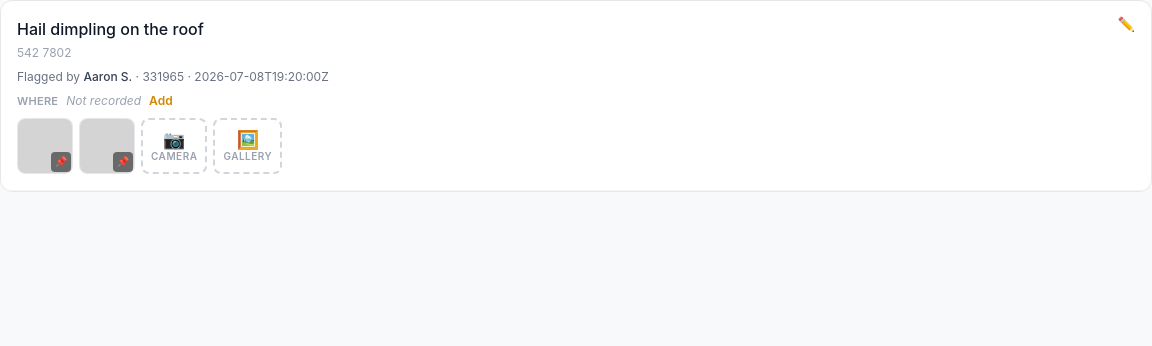
HoldRecordCard — destructive edits › cancel disarms without firing anything
The image size is (1152, 346).
Click the button named "Edit this hold" at {"x": 1126, "y": 24}, box [1118,17,1135,31]
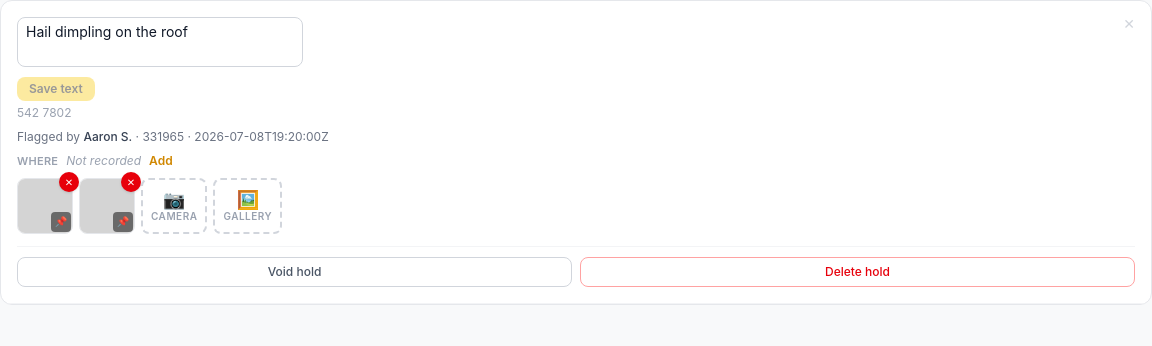
Click the button "Delete hold" at {"x": 858, "y": 272}, box [580,256,1135,286]
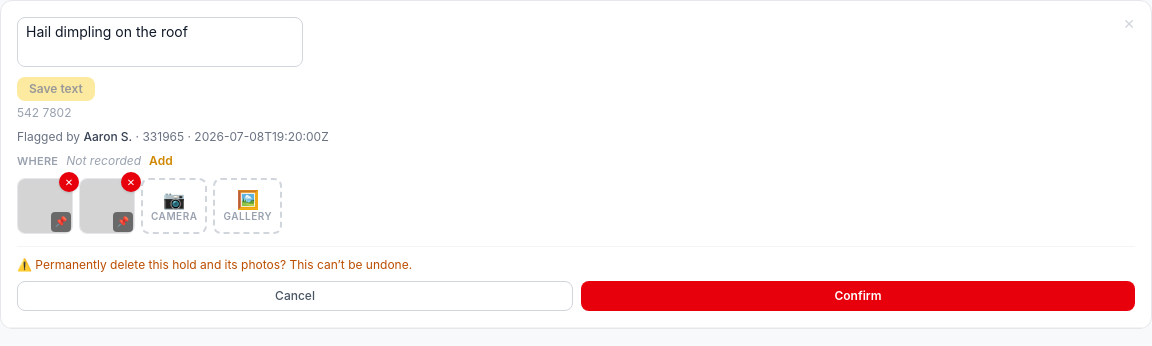
Click the button "Cancel" at {"x": 295, "y": 296}, box [17,280,573,310]
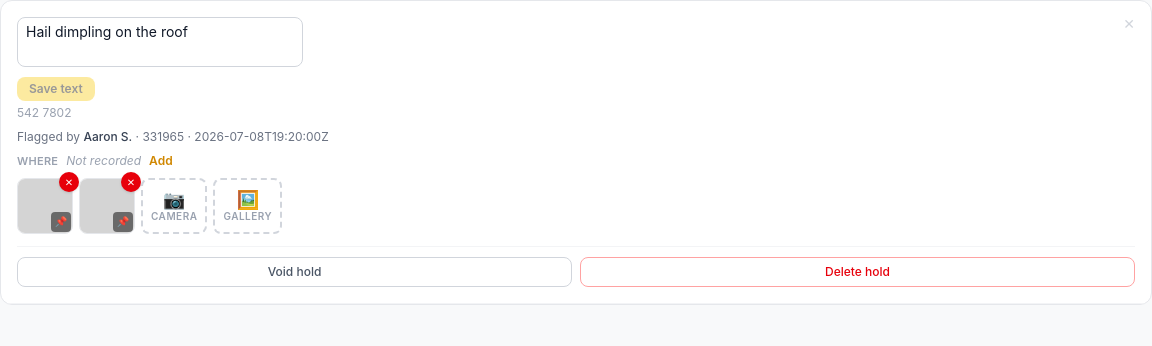
Expected: the button "Delete hold" is shown, [580,256,1135,286]
